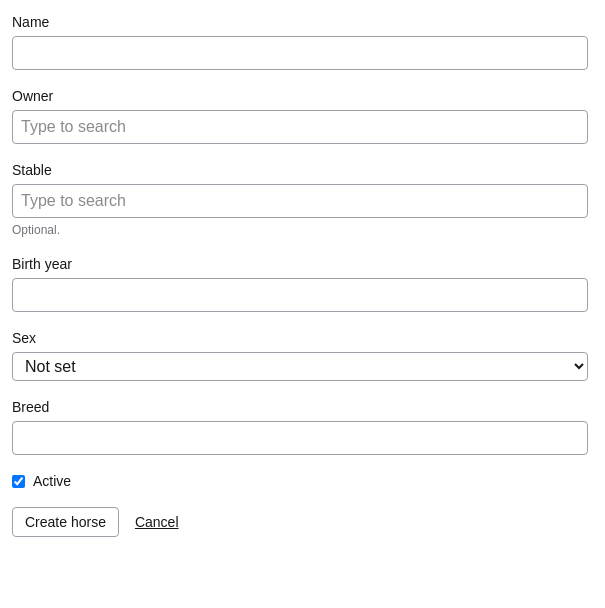
Scenario: the other fields are the backend's to judge › shows 0 as a form-level message and can be retried
Type "Kalle" into the field labelled "Name" at (300,53), box [12,36,588,70]
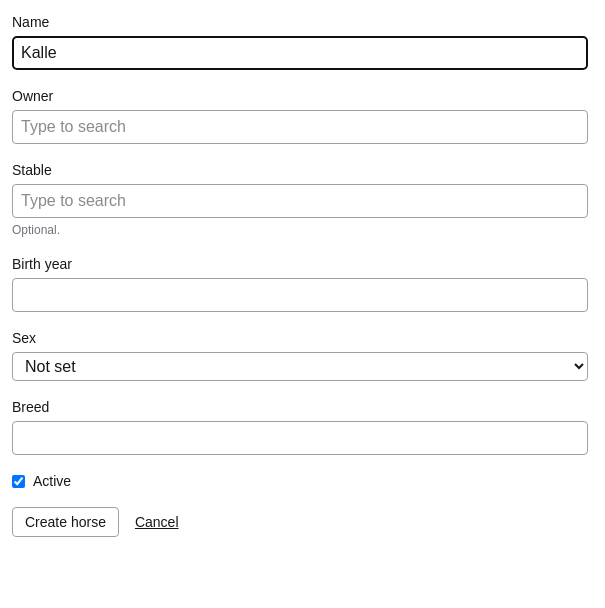
Click the dropdown labelled "Owner" at (300,127), box [12,110,588,144]
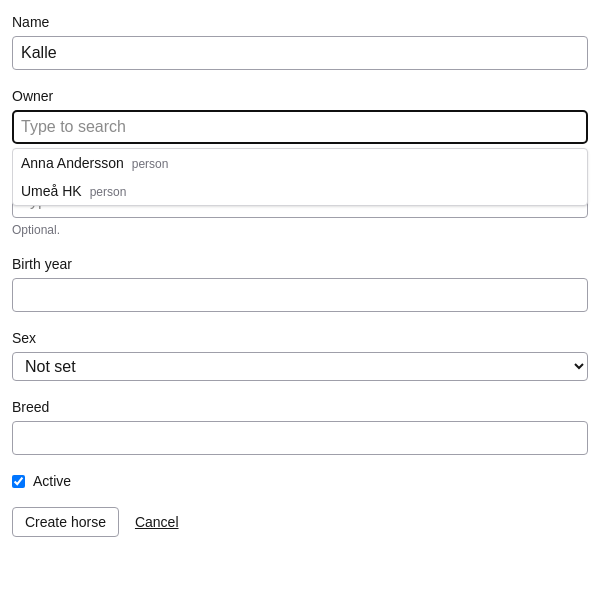
Click the 1st option at (95,163), box [21,155,168,171]
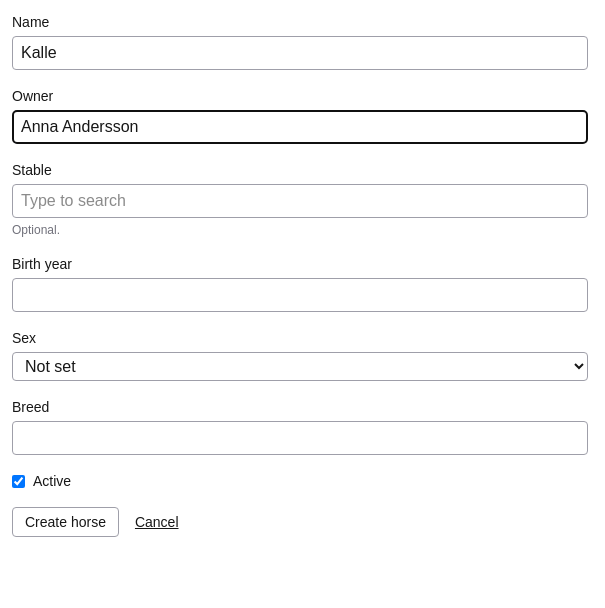
Click the button "Create horse" at (65,522), box [12,507,119,537]
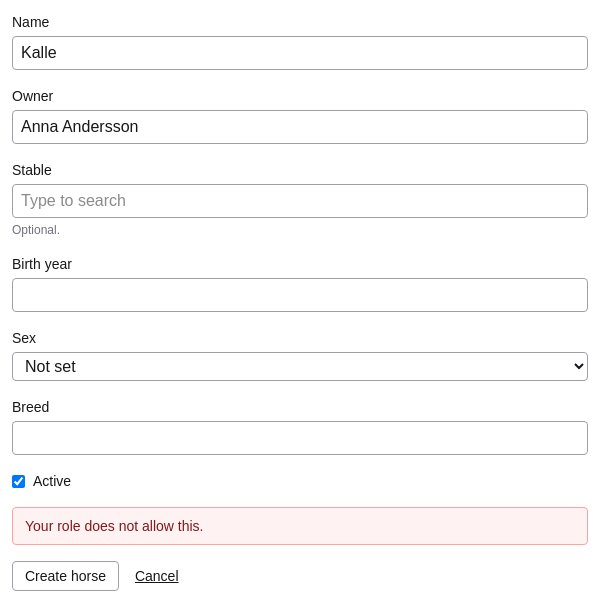
Result: the message with test id "form-error" reads "Your role does not allow this." at [25,518,204,534]
